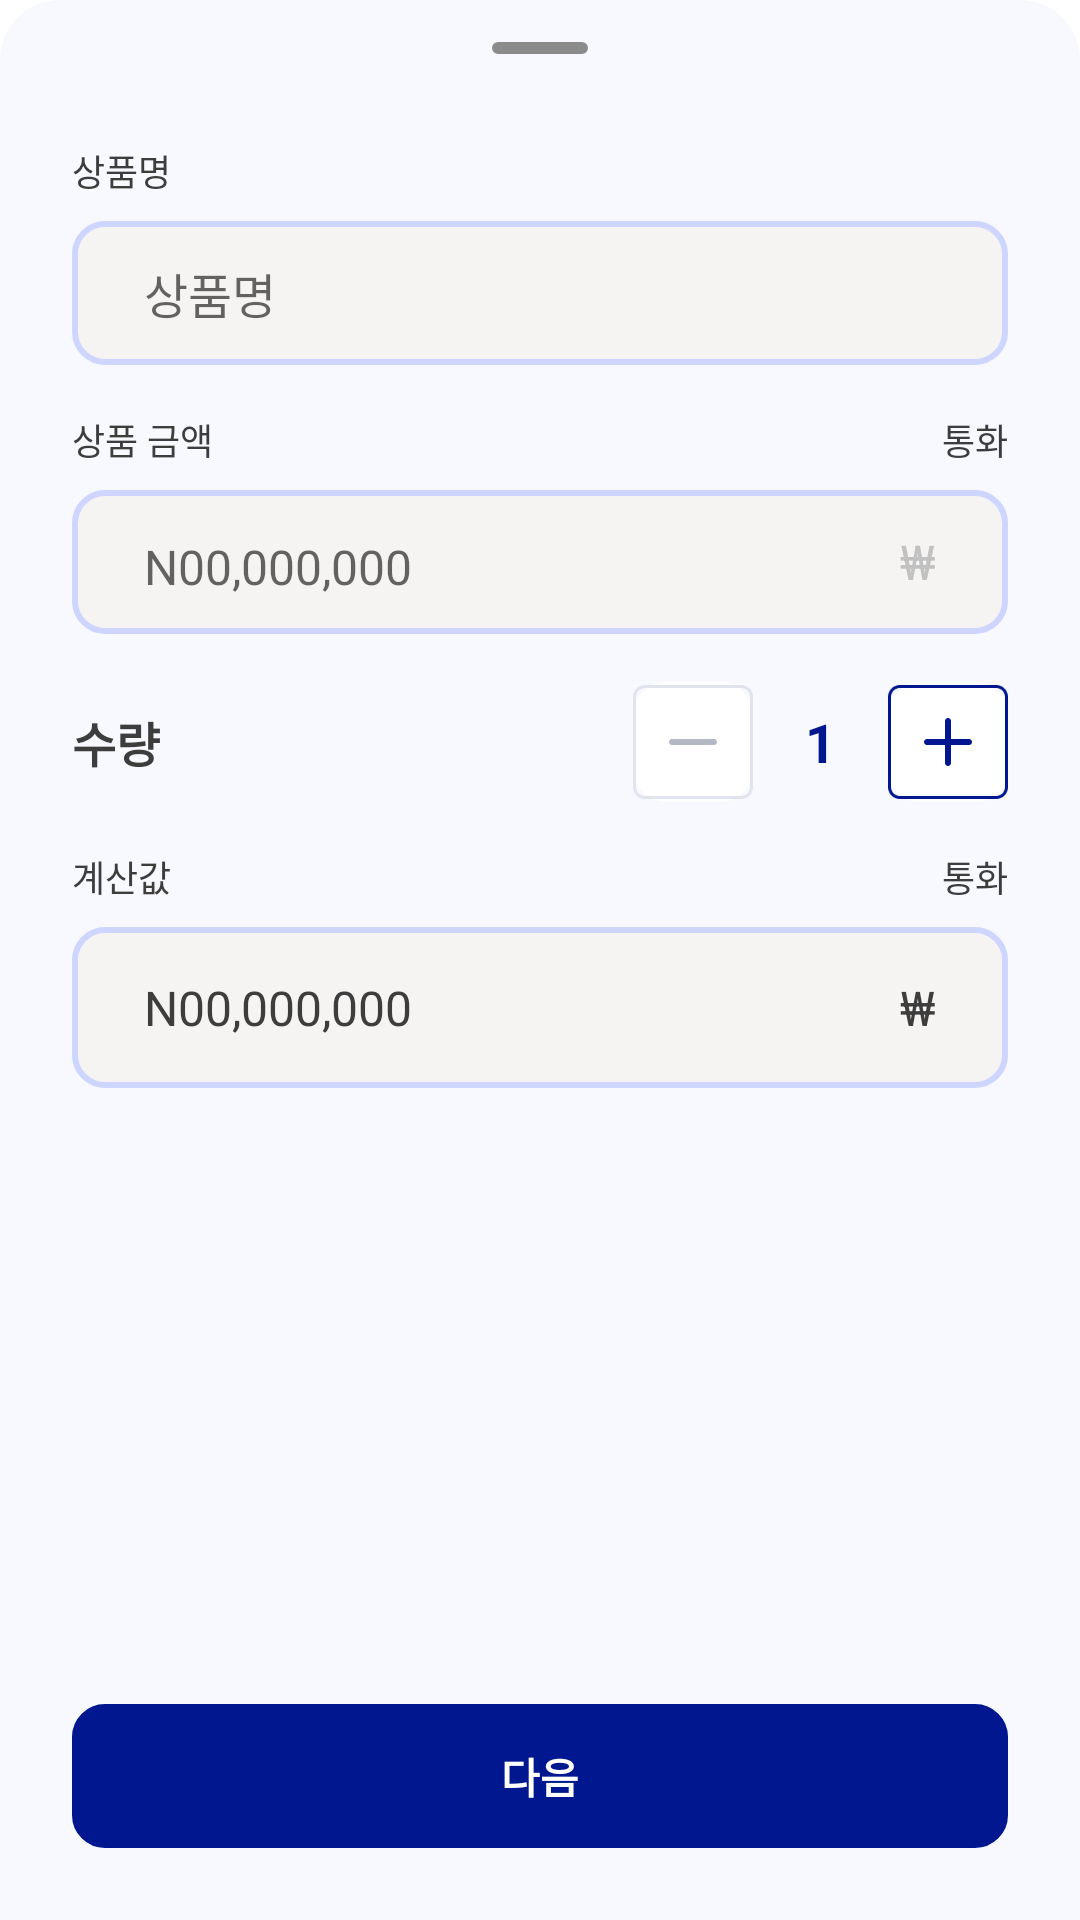

Icons on this 1080px×1920px Android screen, each with its box as (x1,y1,x2,y2):
plus: (924,718,972,766)
